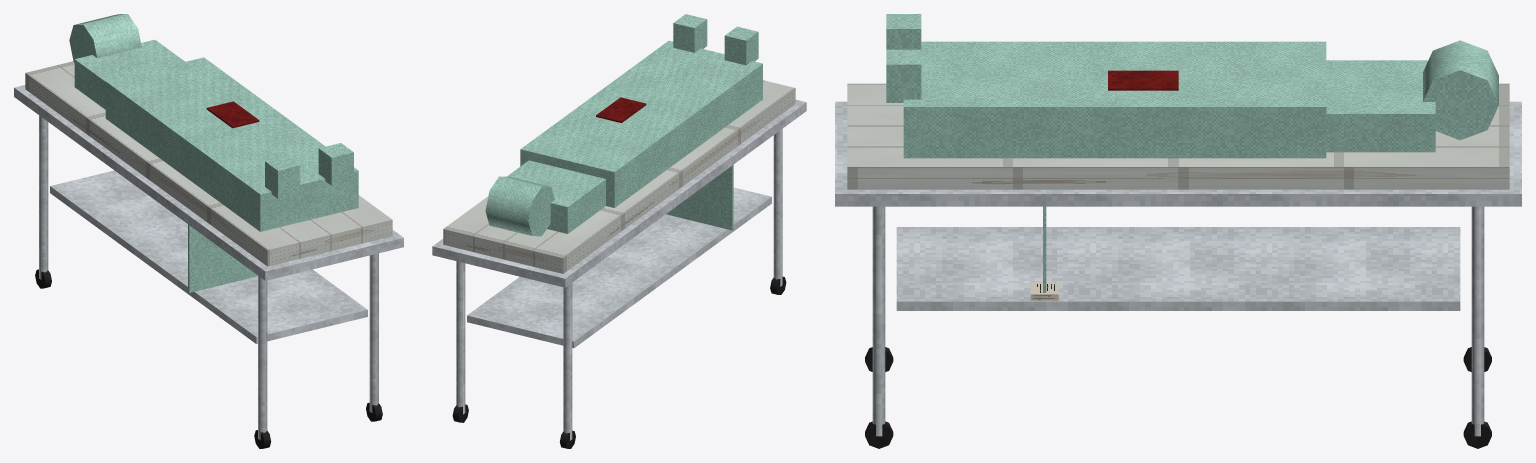
Rendered from tfg_gurney.glb.
3 renders of one model, left to right at view 1: azimuth 30°, elevation 25°; view 2: azimuth 150°, elevation 25°; view 3: azimuth 270°, elevation 25°, orthographic. The views are drawn at different scales.
Visible parts, largest first — view 1: tfg_gurney; view 2: tfg_gurney; view 3: tfg_gurney.
Boxes of the visible parts, box(x1,y1,x2,y2) form: tfg_gurney: box(14, 14, 403, 448); tfg_gurney: box(432, 14, 806, 448); tfg_gurney: box(835, 14, 1521, 448).
Size of the model in its own units: 0.63 by 1.16 by 1.95.
Materials: 6 (6 with a texture image).
